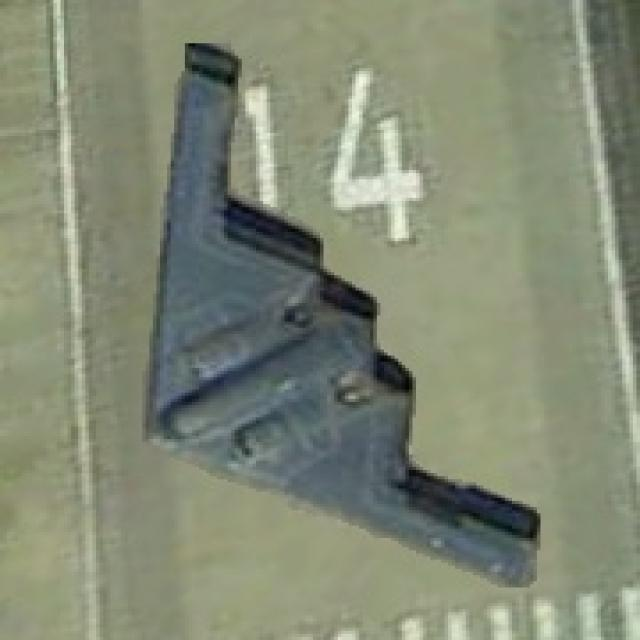B-2_TopDown: (132, 34, 548, 591)
